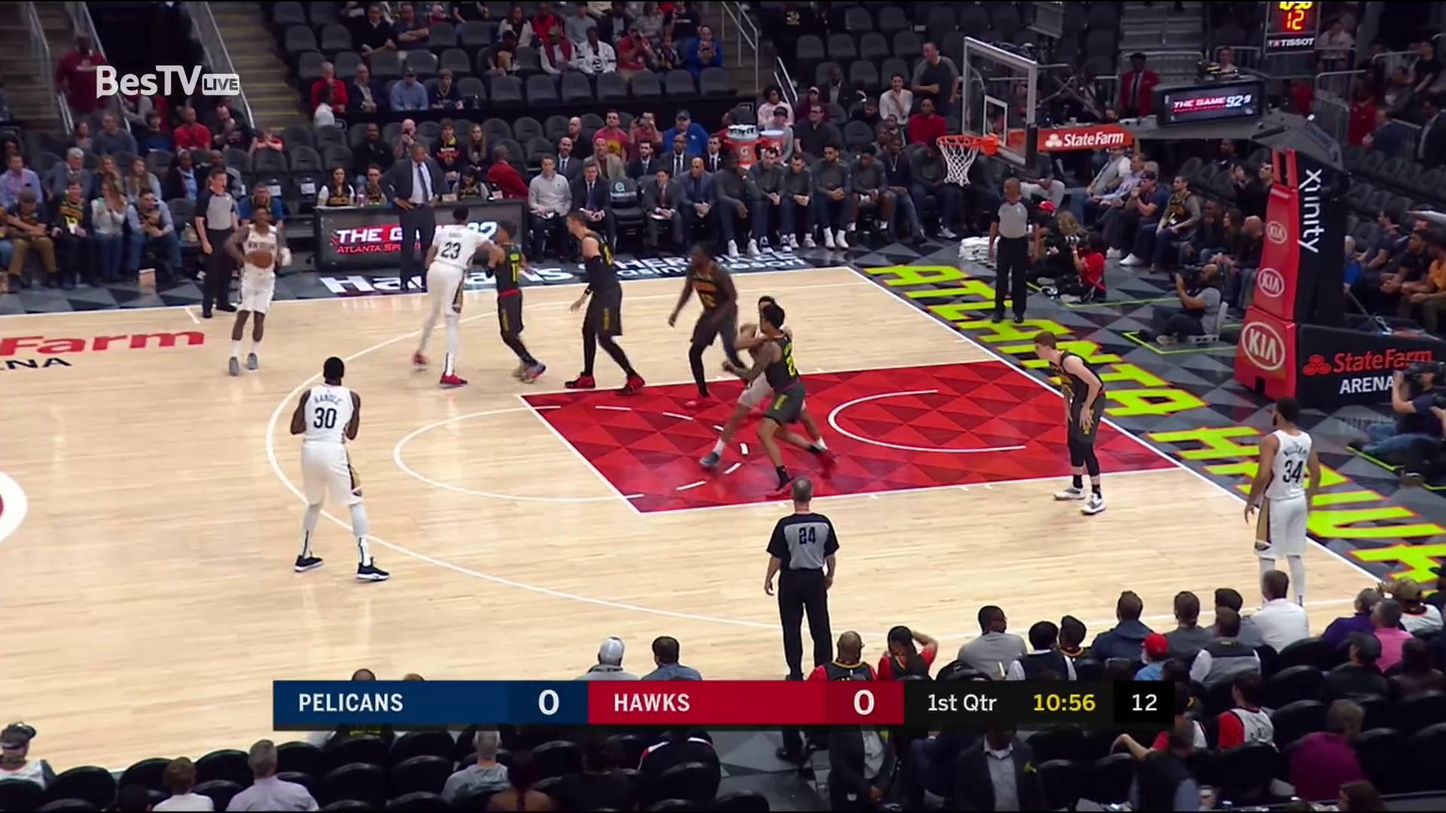basketball: (247, 245, 275, 271)
